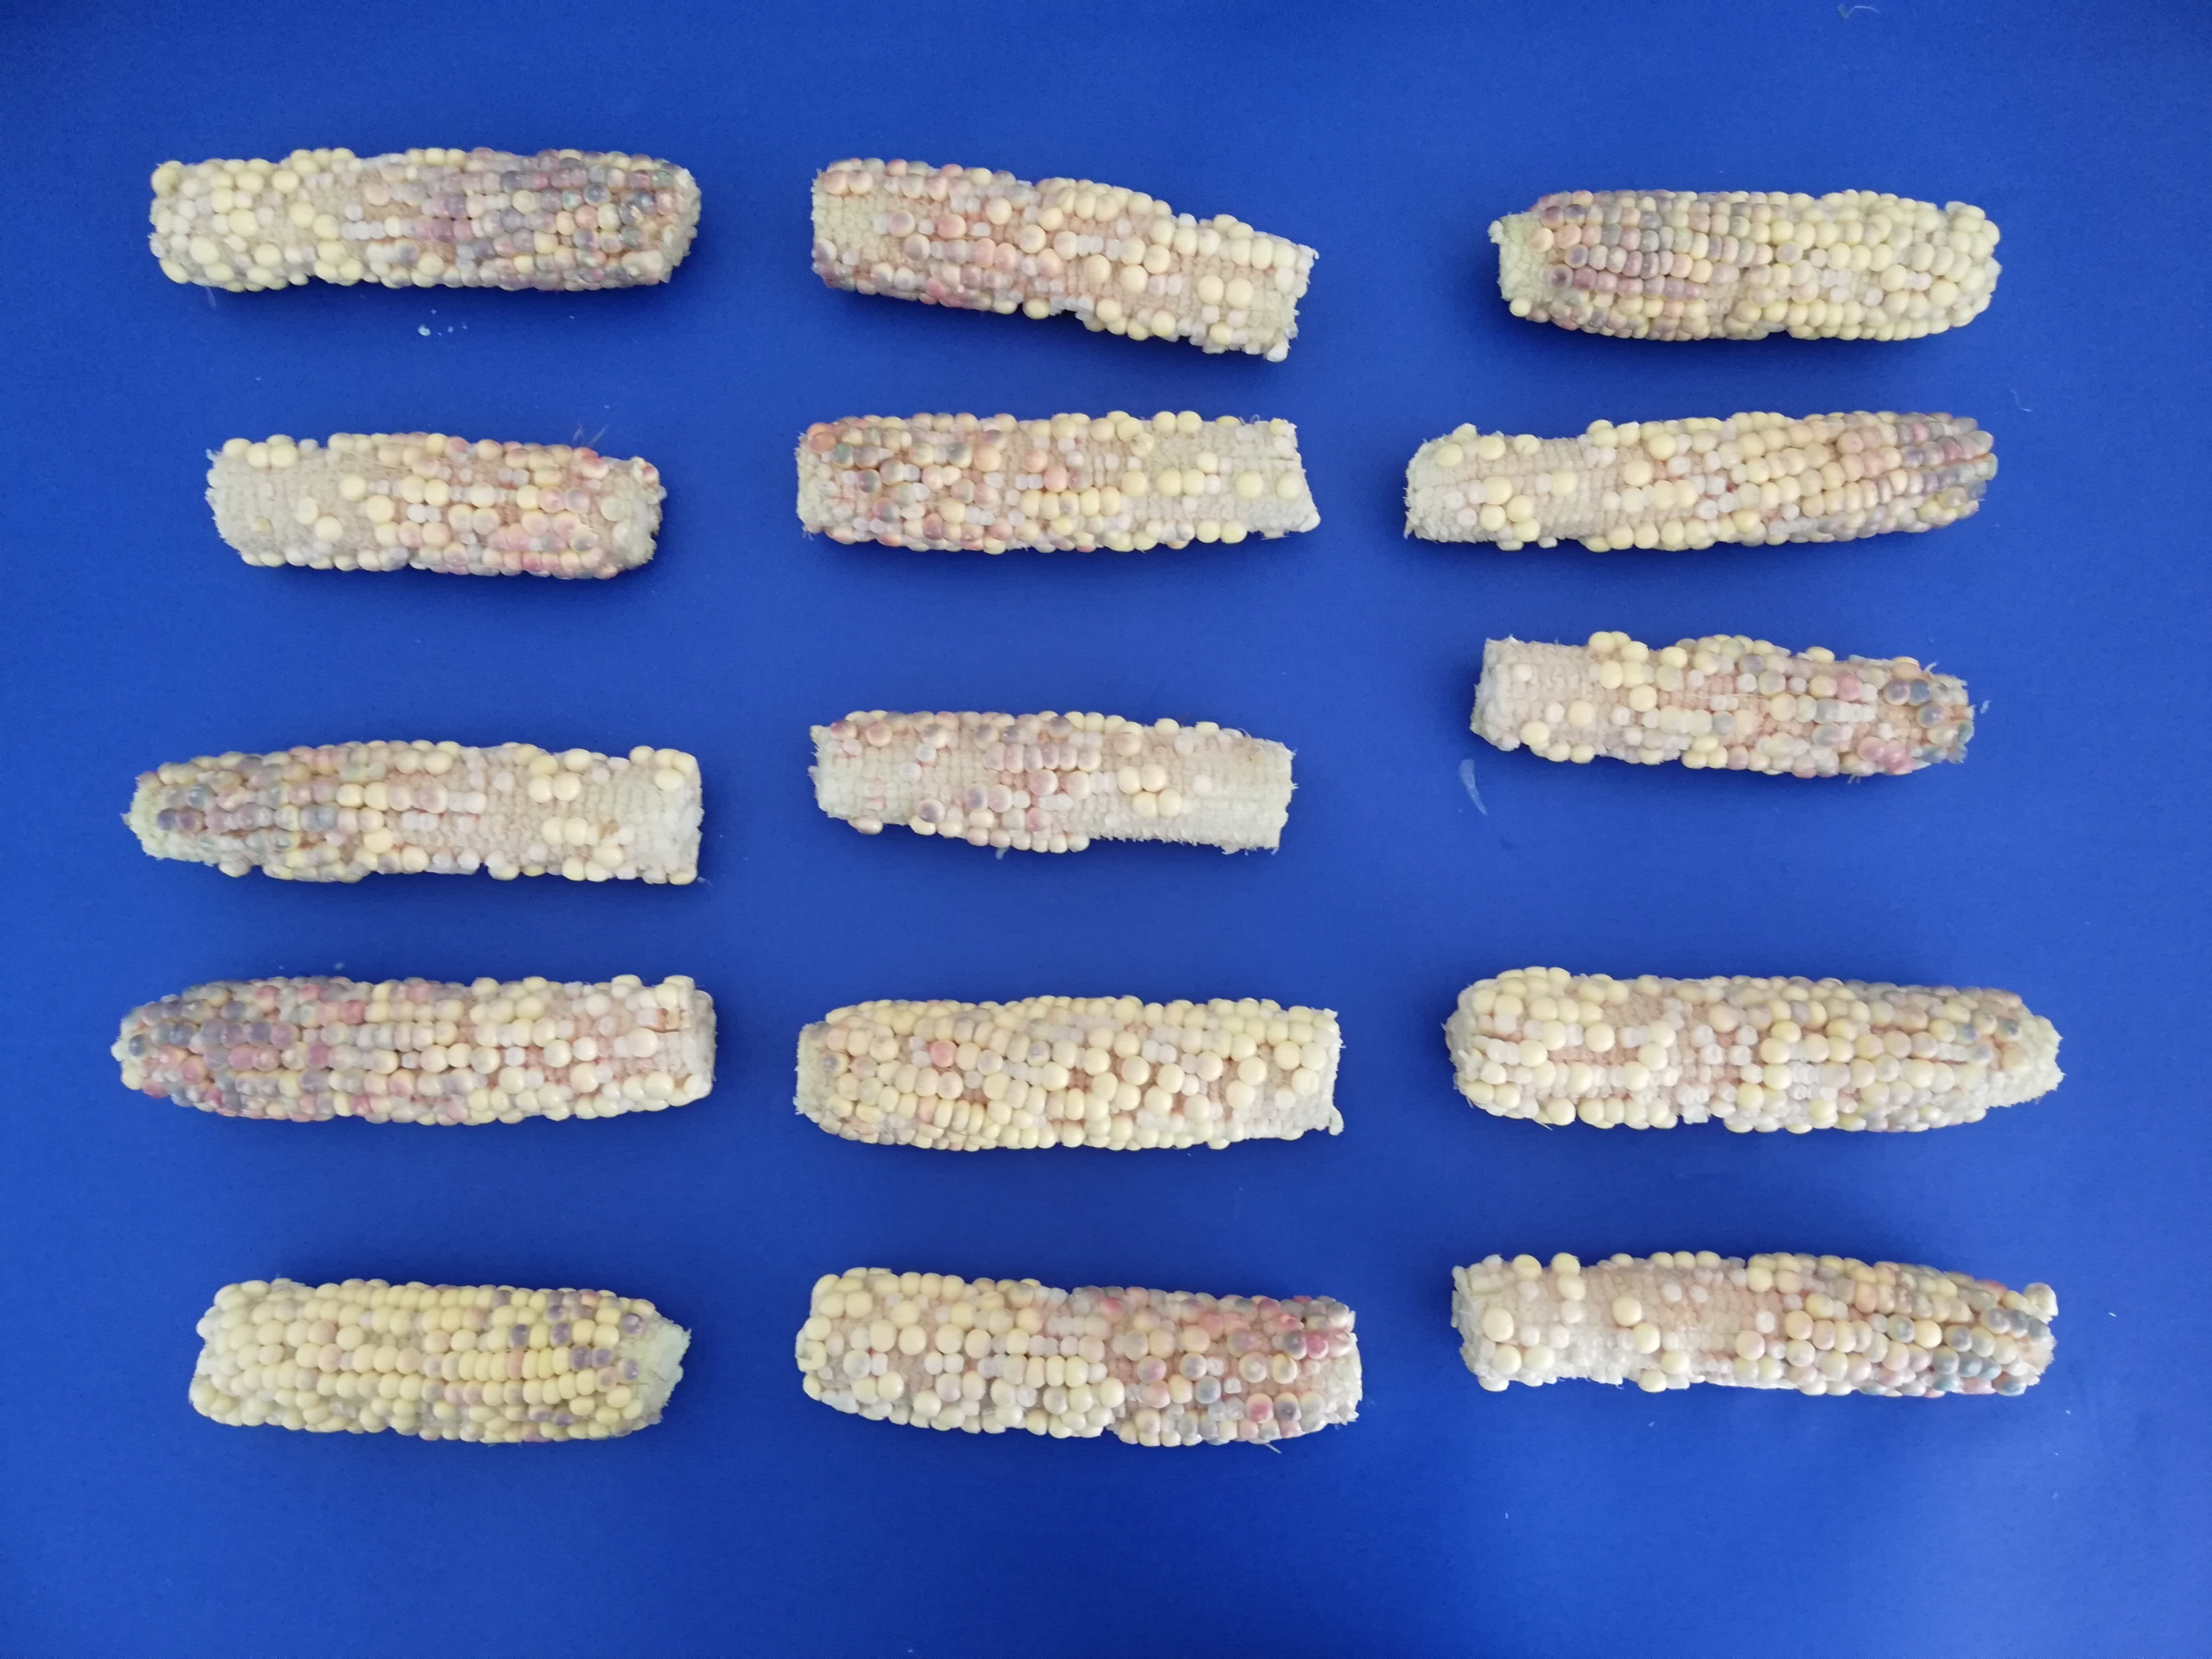corn: (1482, 1309, 1521, 1347), (1608, 1290, 1646, 1326), (284, 199, 319, 232), (1555, 1276, 1595, 1304), (364, 497, 404, 525), (914, 793, 951, 823), (1174, 410, 1211, 439), (1595, 660, 1627, 694), (1810, 671, 1843, 702), (1479, 472, 1512, 504), (1733, 1331, 1770, 1359), (1623, 462, 1662, 488), (1590, 1021, 1622, 1053), (336, 781, 366, 812), (542, 1042, 577, 1068), (1078, 1044, 1106, 1075), (967, 1330, 993, 1363), (1146, 1089, 1179, 1115), (319, 1019, 350, 1046), (1237, 471, 1268, 497), (1705, 685, 1733, 713), (1195, 1377, 1223, 1403), (1237, 1056, 1264, 1082), (1122, 265, 1148, 291), (556, 774, 580, 798), (456, 1326, 477, 1354), (312, 1347, 334, 1371), (1674, 253, 1691, 281), (1771, 216, 1791, 239), (869, 1354, 890, 1371)
ear: (799, 152, 1325, 373), (792, 1256, 1371, 1455), (115, 965, 725, 1140), (1444, 1244, 2067, 1408), (131, 730, 716, 899), (190, 1270, 695, 1453), (1470, 626, 1977, 807), (139, 146, 709, 305), (1402, 408, 2000, 558), (810, 713, 1305, 875), (204, 430, 662, 601)
